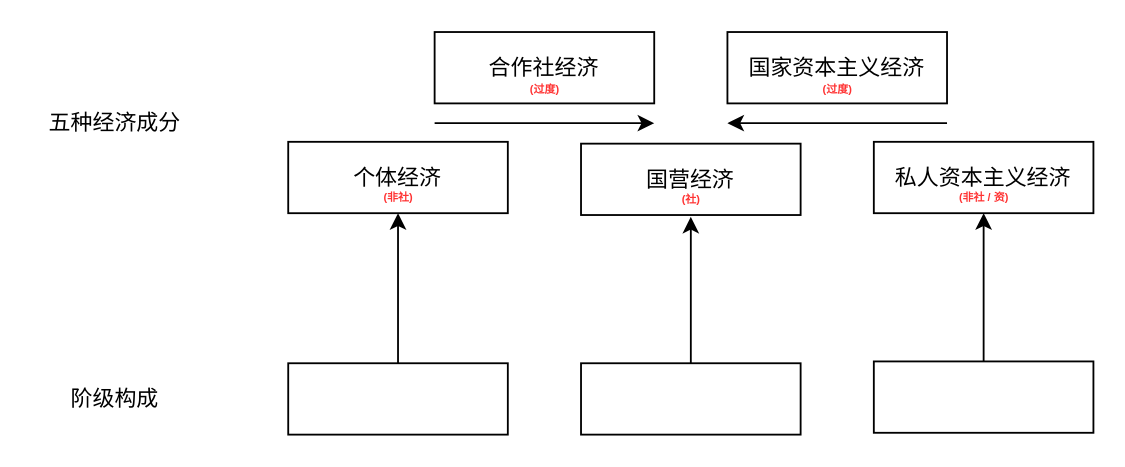
The diagram is 1125 pixels wide and 467 high, and some of its shapes have lost their labels. The centre of each missing label's shape, as x and y in pixels:
农民阶级和其他小资: pixel 397 398
工人阶级: pixel 690 398
民族资产阶级: pixel 982 396
